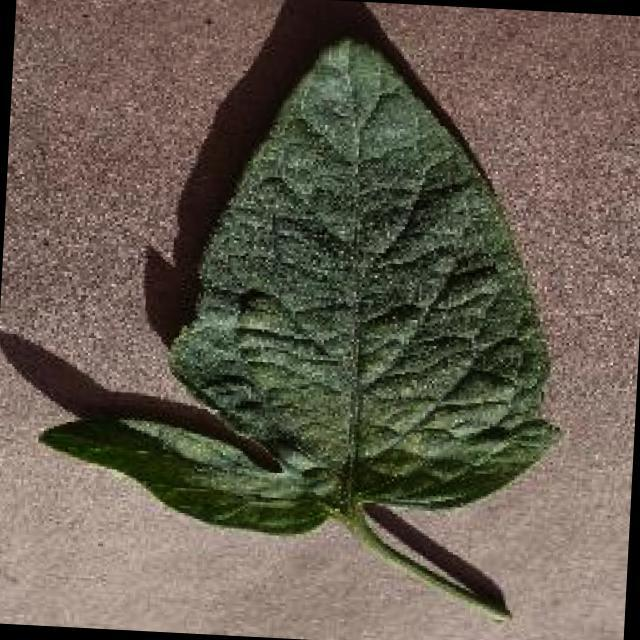Tomato spider mites leaf: (32, 20, 586, 552)
